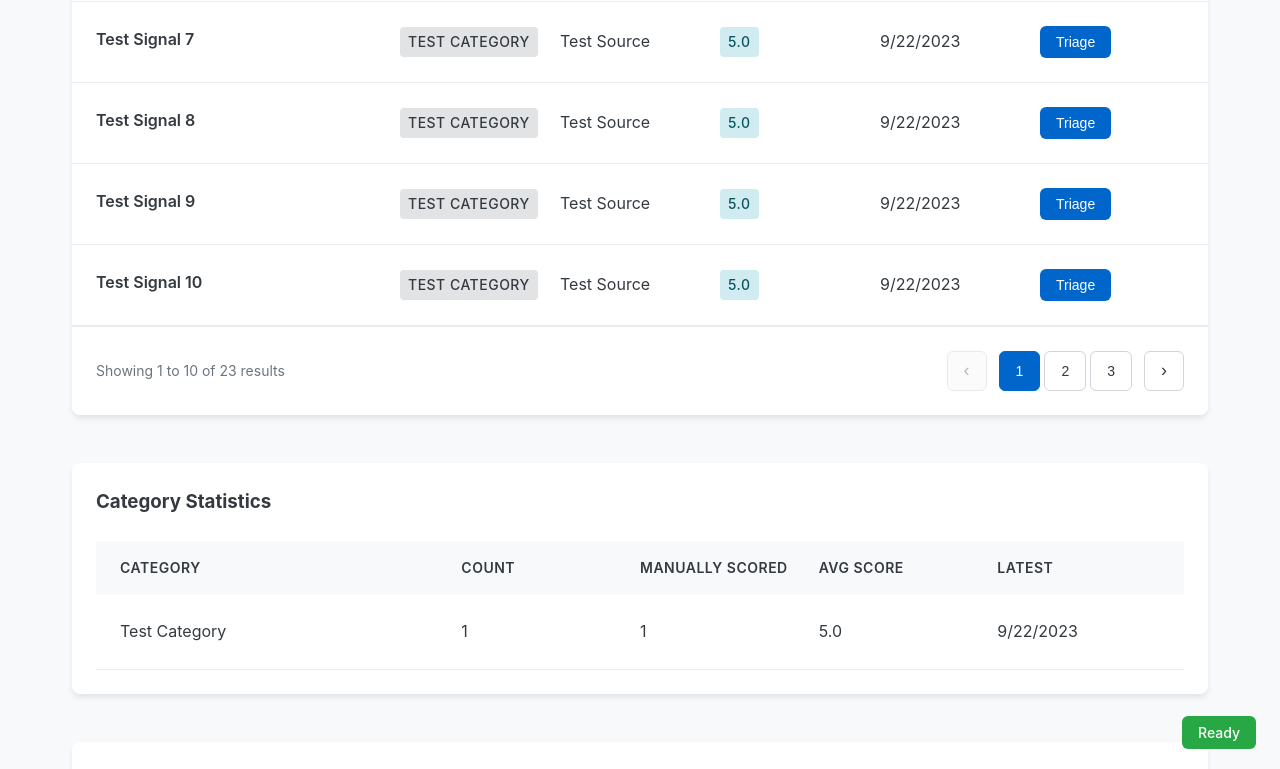
it: Dashboard › Pagination Integration › pagination handles last page correctly
The width and height of the screenshot is (1280, 769).
(page scrolled)
Note: Navigate to page 3 (last page)
Click the button named "Go to page 3": (1111, 371) [1090,351,1132,391]
(page scrolled)
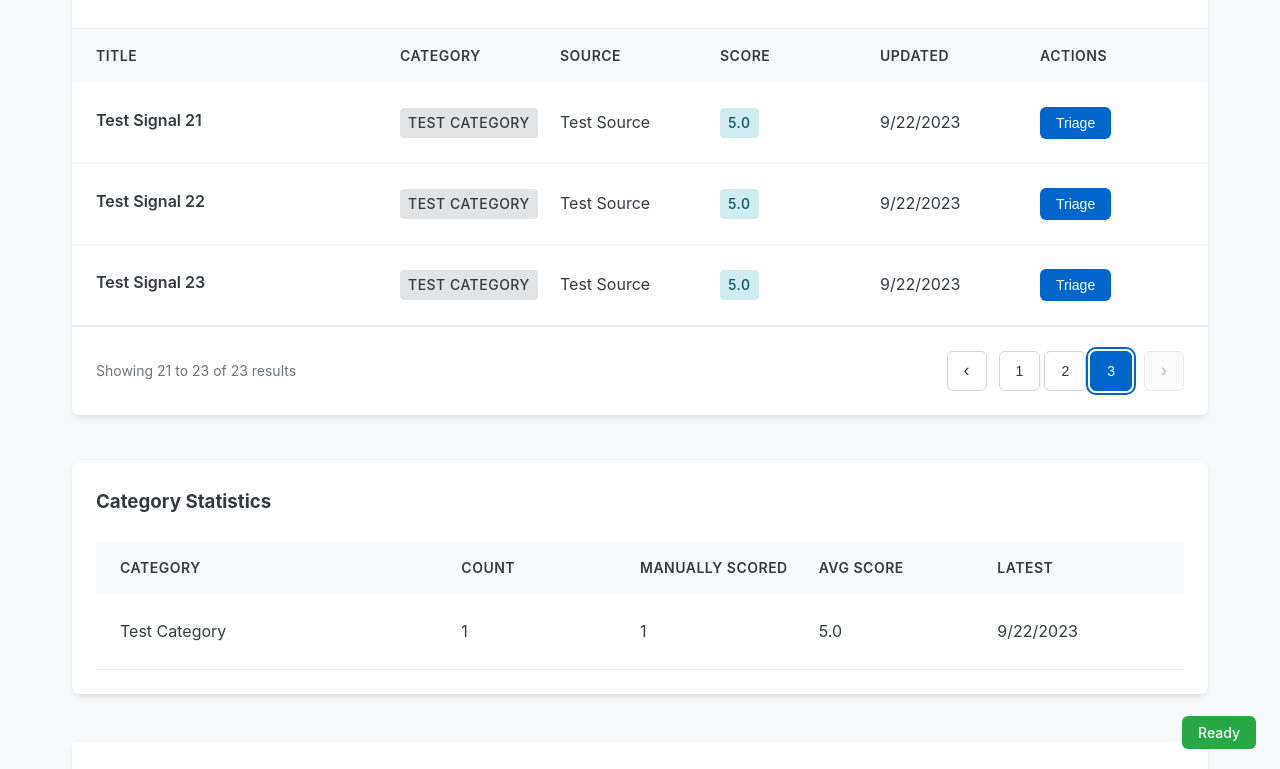
Result: the text "Showing 21 to 23 of 23 results" is shown at [96,362,296,379]
Result: the text "Test Signal 21" is shown at [96,108,202,134]
Result: the text "Test Signal 23" is shown at [96,270,205,296]
